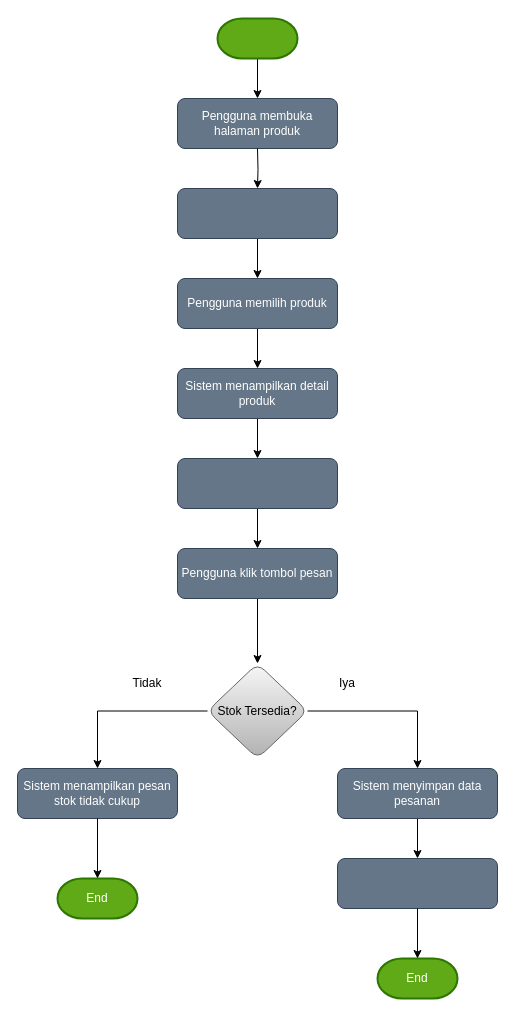
Image size: 515x1016. Some labels were removed from this diagram. Here are the shapes that lost their labels. From the top down, the centre of each, then its label:
At pixel 257 38: "Start".
At pixel 257 213: "Sistem menampilkan daftar produk".
At pixel 257 483: "Pengguna memasukkan jumlah pesanan".
At pixel 417 883: "Sistem menampilkan pesan, bahwa pesanan telah berhasil".
